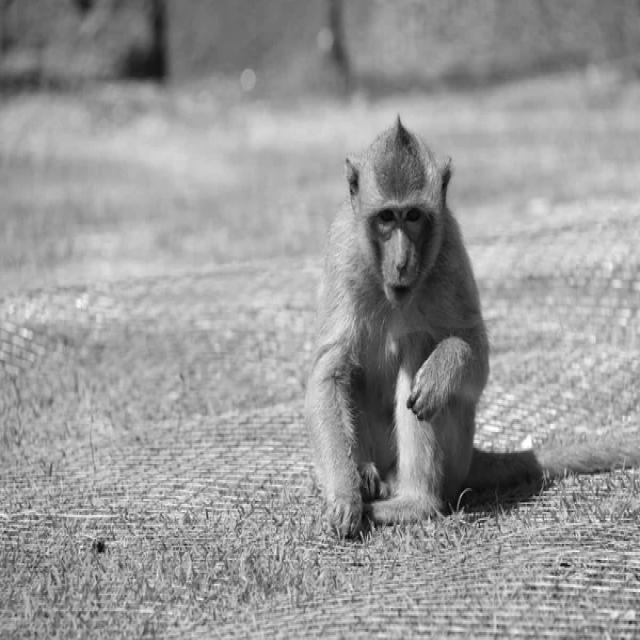Animal: (306, 117, 640, 537)
